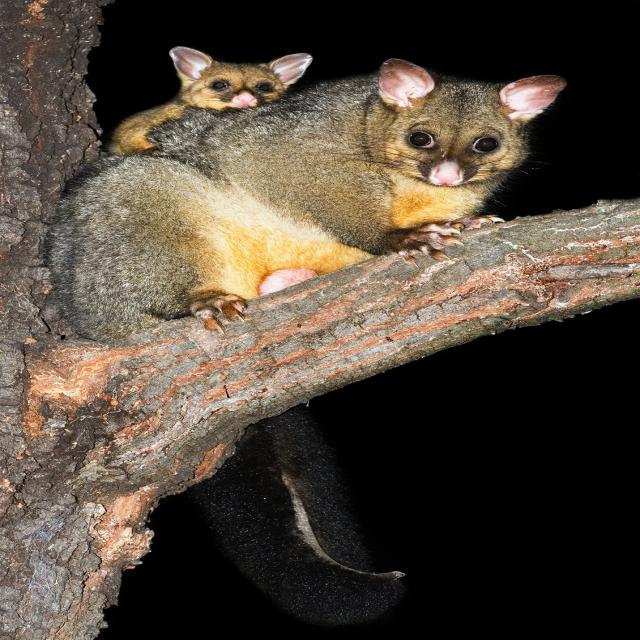Possum: (58, 43, 580, 327), (106, 35, 316, 161)
